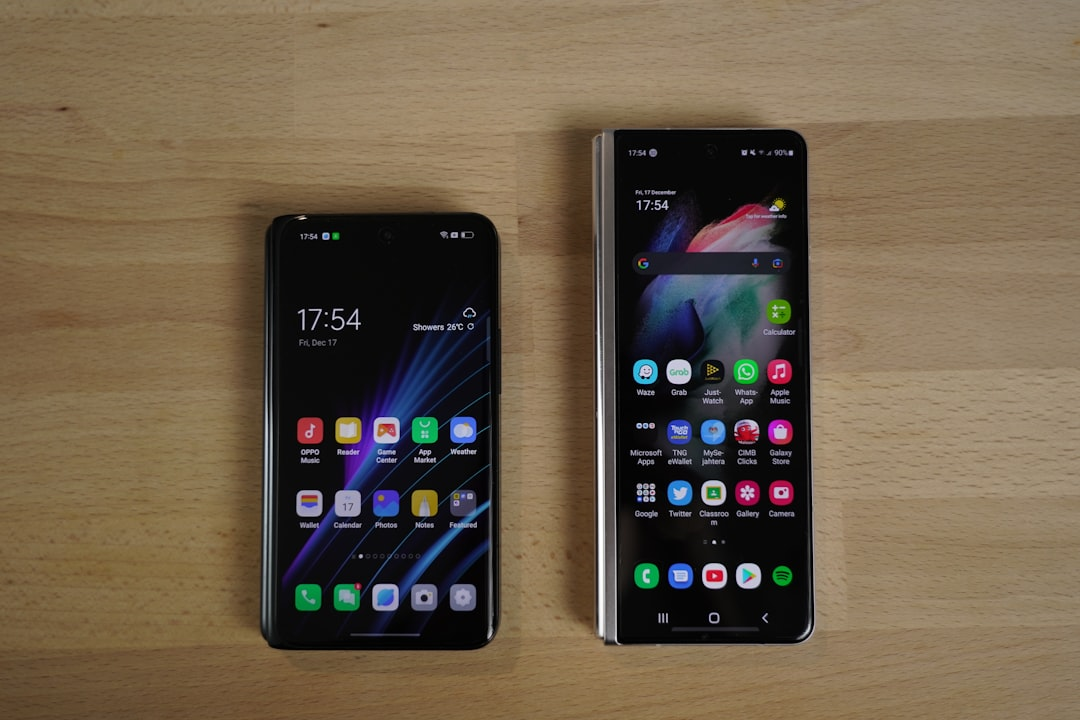phone: (593, 127, 814, 647), (262, 211, 502, 654)
